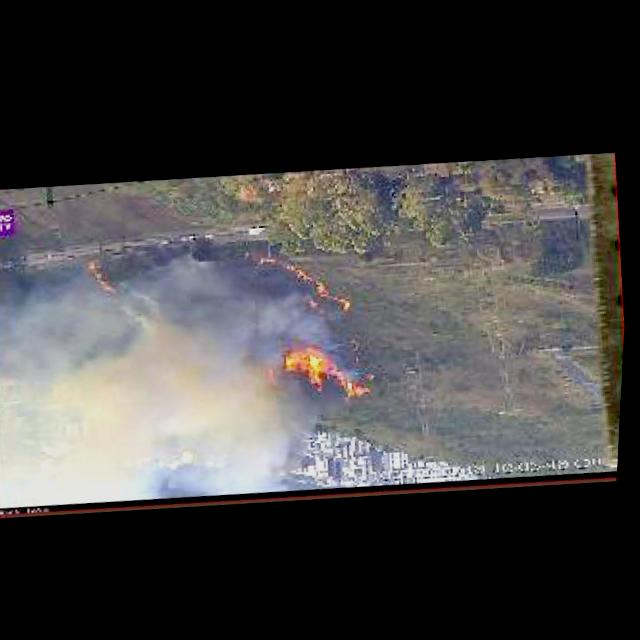Fire: (273, 330, 382, 411)
Smoke: (0, 291, 299, 524)
